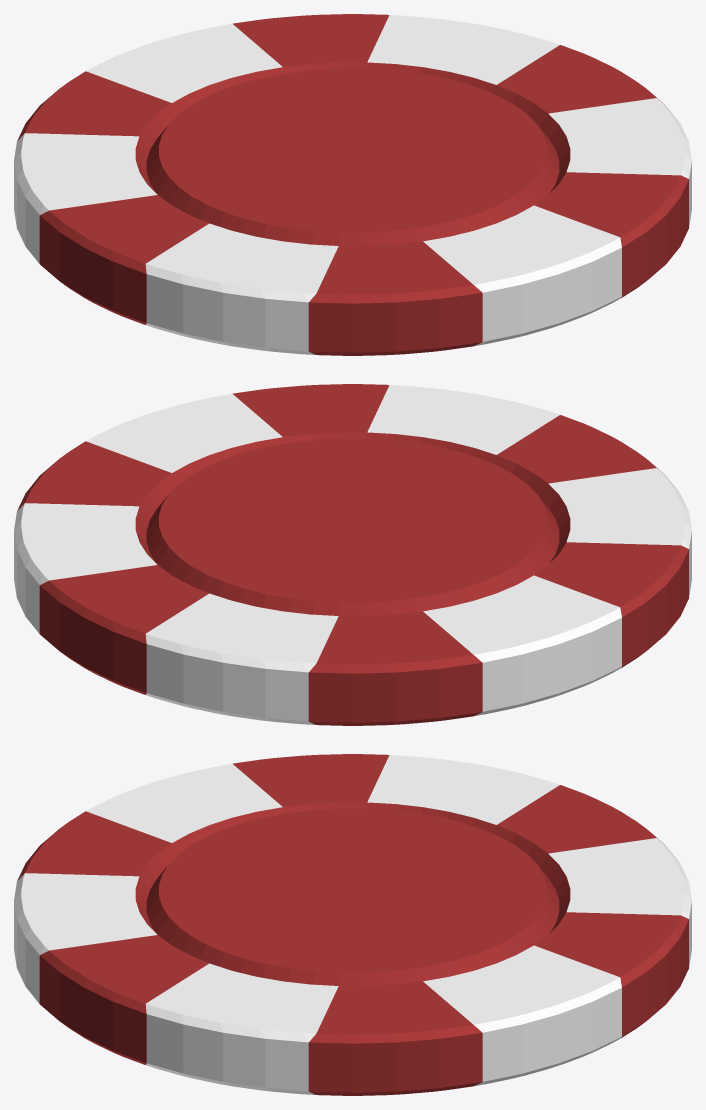
Rendered from chip.fbx.
3 views of the same model, one above another, from view 1: azimuth 30°, elevation 25°; view 2: azimuth 150°, elevation 25°; view 3: azimuth 270°, elevation 25° (orthographic).
Parts seen in each view (by area): view 1: 柱体; view 2: 柱体; view 3: 柱体.
Boxes of the visible parts, bbox=[...] form: 柱体: bbox=[14, 14, 691, 355]; 柱体: bbox=[14, 384, 691, 725]; 柱体: bbox=[14, 754, 691, 1095].
Size of the model in its own units: 100 by 10.6 by 100.
1 material, 1 textured.
